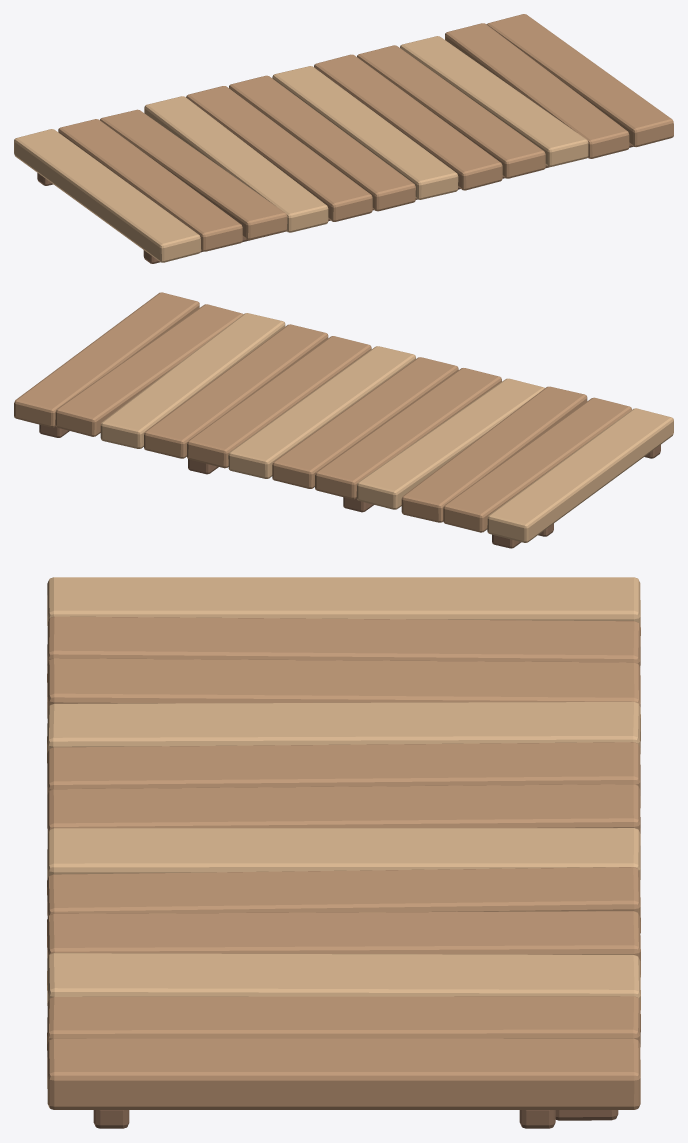
The model's file is Kit_Boardwalk.fbx.
3 renders of one model, top to bottom at view 1: azimuth 30°, elevation 25°; view 2: azimuth 150°, elevation 25°; view 3: azimuth 270°, elevation 25°, orthographic. The views are drawn at different scales.
Parts seen in each view (by area): view 1: Kit_Boardwalk; view 2: Kit_Boardwalk; view 3: Kit_Boardwalk.
Part boxes in pixels (left/top/right/bottom): Kit_Boardwalk: left=14, top=14, right=673, bottom=263; Kit_Boardwalk: left=14, top=292, right=673, bottom=548; Kit_Boardwalk: left=47, top=577, right=640, bottom=1128.
Bounding box in the file's own units: 3.99 × 0.2625 × 1.99.
